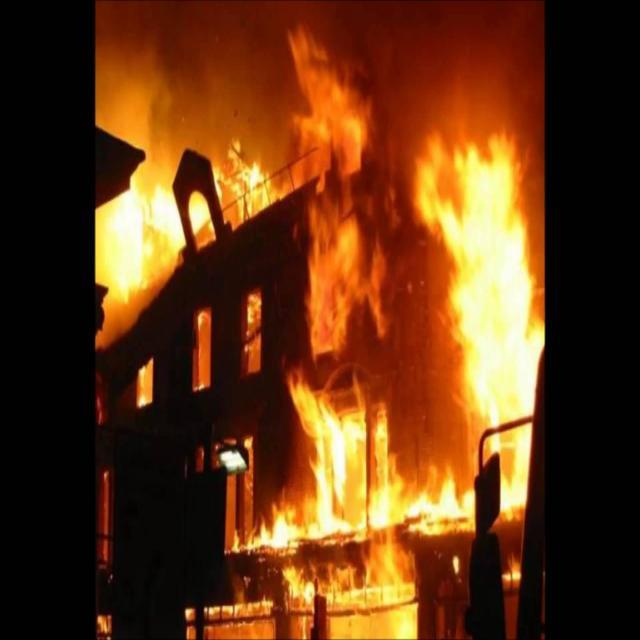Fire: (436, 124, 562, 502), (293, 379, 412, 542), (288, 30, 380, 184), (304, 198, 379, 354), (99, 172, 193, 285), (232, 506, 342, 587), (416, 487, 504, 580), (217, 139, 269, 218)
Smoke: (372, 1, 546, 124), (100, 20, 268, 144), (134, 357, 164, 410), (247, 282, 269, 354)
